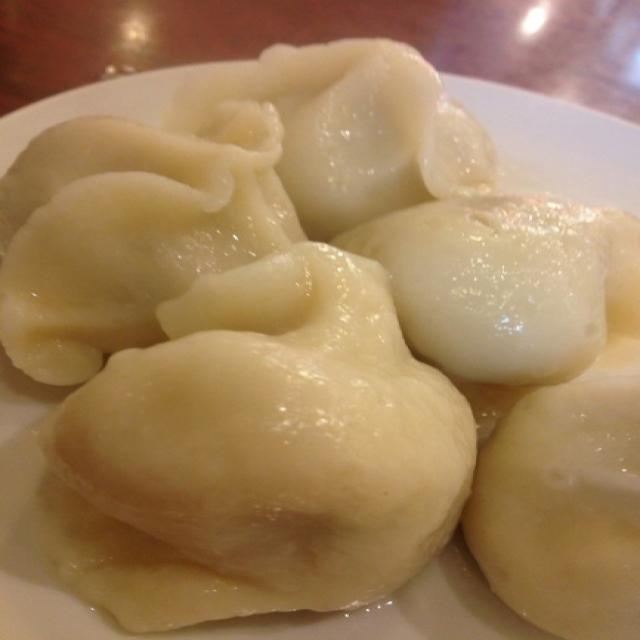带馅早点: (21, 34, 609, 599)
